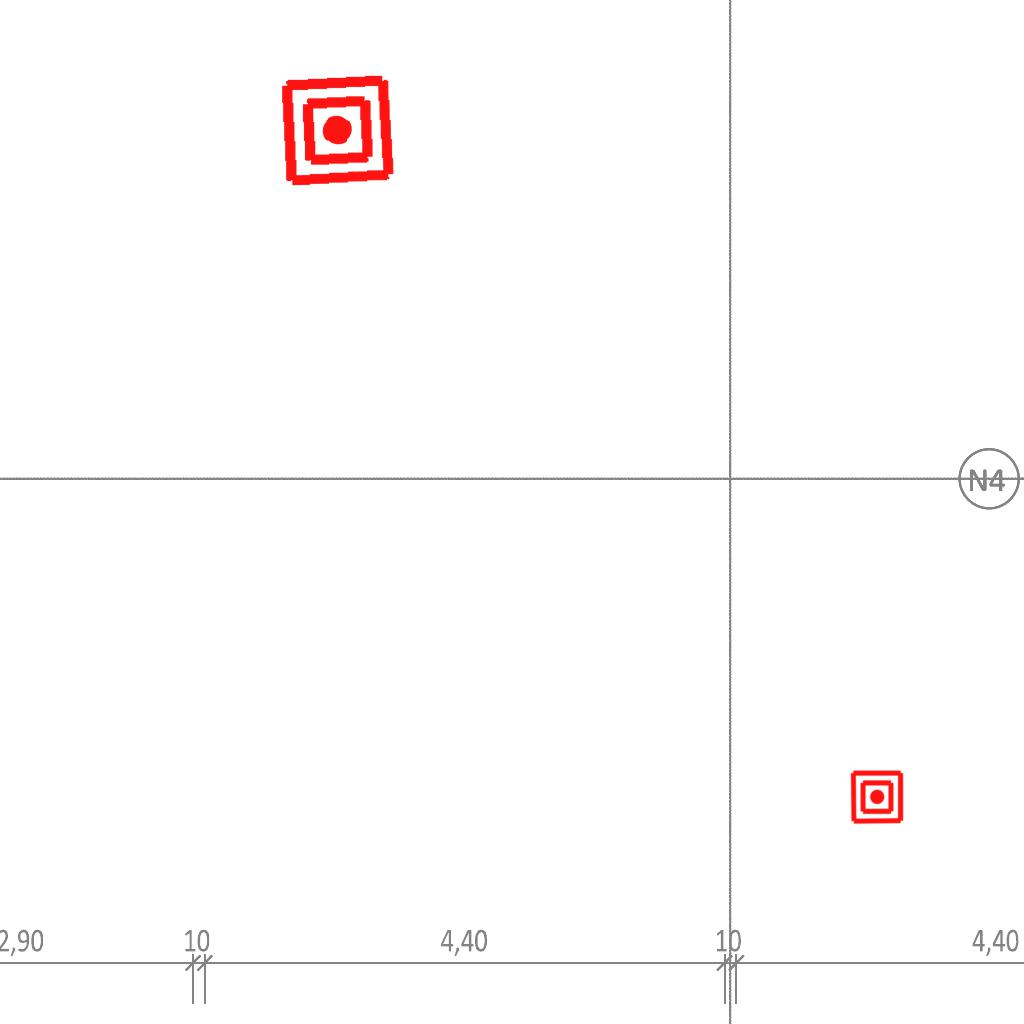NAM-Nichtautomatischer_Melder: (278, 71, 397, 190), (849, 769, 905, 825)
